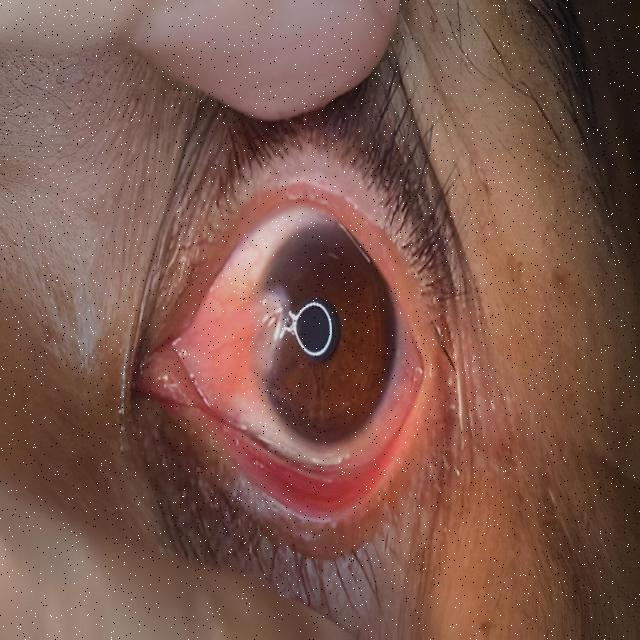Pterygium: (174, 274, 310, 422)
